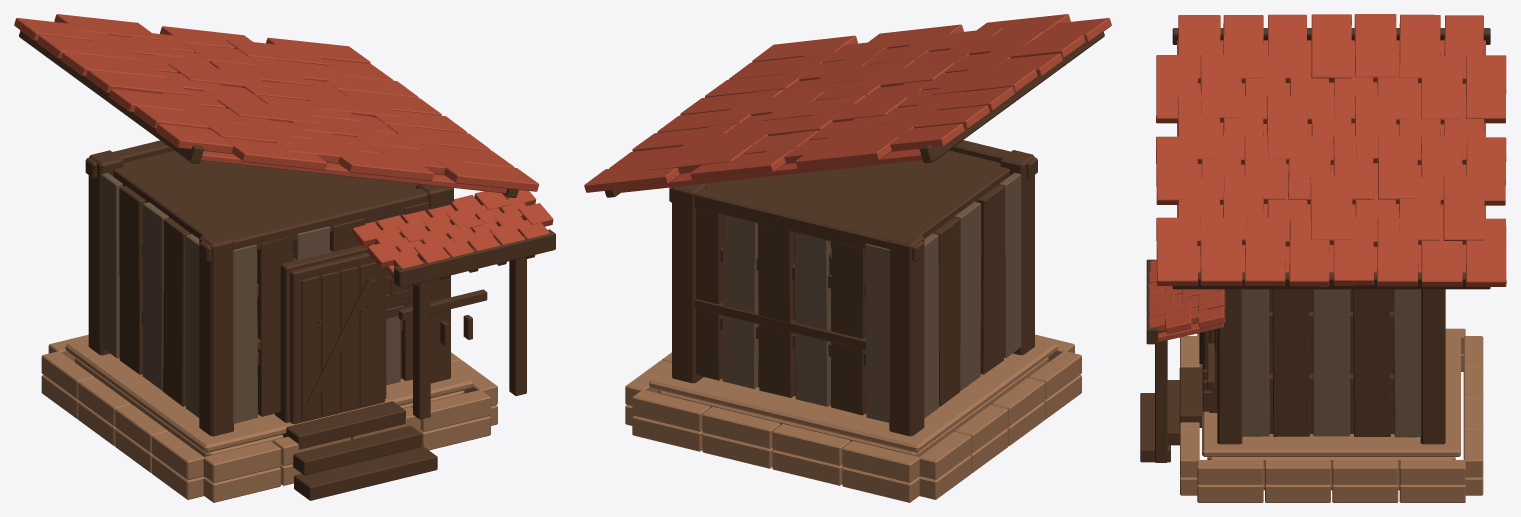
Rendered from prop_tool_shed_b.glb.
3 views of the same model, side by side, from view 1: azimuth 30°, elevation 25°; view 2: azimuth 150°, elevation 25°; view 3: azimuth 270°, elevation 25° (orthographic). The views are drawn at different scales.
Parts seen in each view (by area): view 1: prop_tool_shed_b_material_01, prop_tool_shed_b_material_03, prop_tool_shed_b_material_00, prop_tool_shed_b_material_02; view 2: prop_tool_shed_b_material_01, prop_tool_shed_b_material_03, prop_tool_shed_b_material_00, prop_tool_shed_b_material_02; view 3: prop_tool_shed_b_material_03, prop_tool_shed_b_material_01, prop_tool_shed_b_material_00, prop_tool_shed_b_material_02.
Boxes of the visible parts, box(x1,y1,x2,y2) form: prop_tool_shed_b_material_01: box(19, 30, 555, 500); prop_tool_shed_b_material_03: box(14, 14, 553, 277); prop_tool_shed_b_material_00: box(41, 334, 497, 502); prop_tool_shed_b_material_02: box(101, 173, 400, 423); prop_tool_shed_b_material_01: box(604, 31, 1104, 436); prop_tool_shed_b_material_03: box(584, 14, 1111, 192); prop_tool_shed_b_material_00: box(625, 334, 1081, 502); prop_tool_shed_b_material_02: box(722, 172, 1021, 422); prop_tool_shed_b_material_03: box(1149, 14, 1506, 342); prop_tool_shed_b_material_01: box(1140, 28, 1490, 462); prop_tool_shed_b_material_00: box(1180, 328, 1483, 502); prop_tool_shed_b_material_02: box(1242, 289, 1421, 437).
Bounding box in the file's own units: 4.38 × 4.24 × 4.1.
